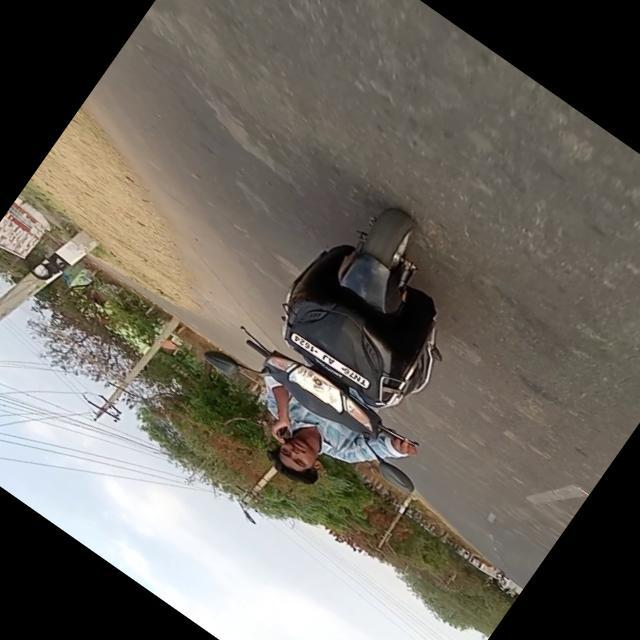USING_MOBILE: (234, 370, 310, 446)
